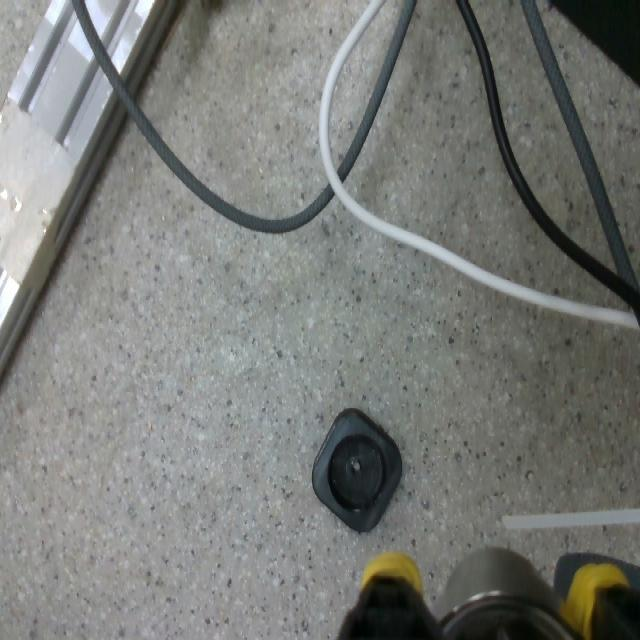cell: (311, 408, 404, 532)
